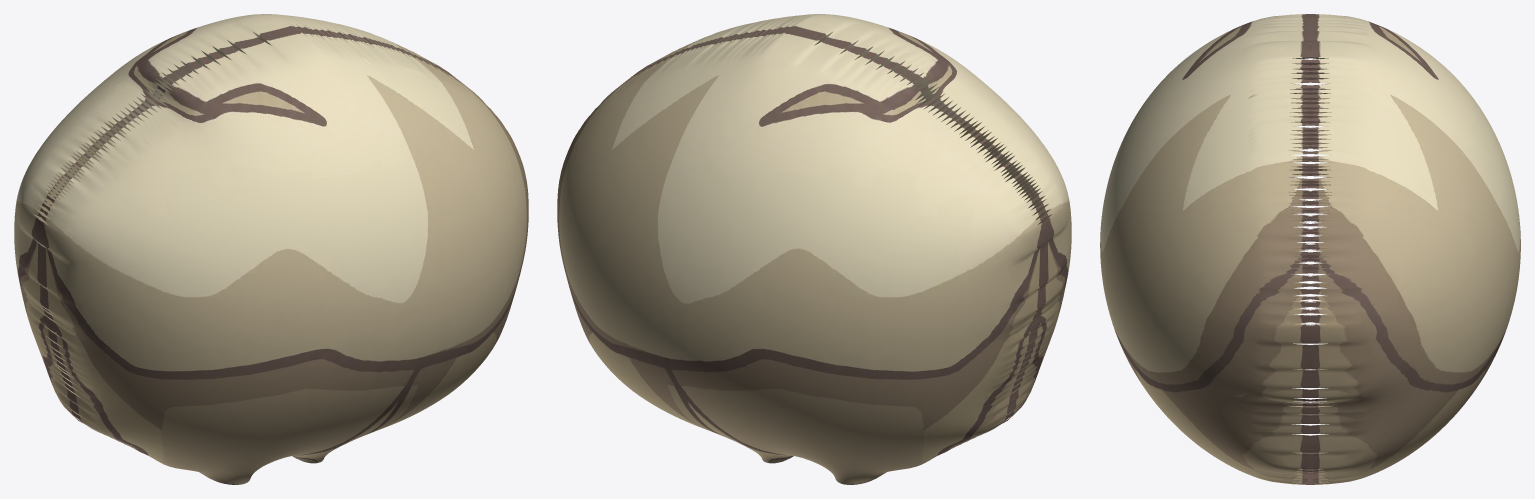
File: boulder.glb
3 views of the same model, side by side, from view 1: azimuth 30°, elevation 25°; view 2: azimuth 150°, elevation 25°; view 3: azimuth 270°, elevation 25° (orthographic).
Parts seen in each view (by area): view 1: boulder; view 2: boulder; view 3: boulder.
Boxes of the visible parts, x1,y1,x2,y2 form: boulder: (14, 14, 528, 484); boulder: (557, 14, 1071, 484); boulder: (1100, 14, 1520, 484).
Bounding box in the file's own units: 0.9889 × 0.7989 × 0.7858.
1 material, 1 textured.
